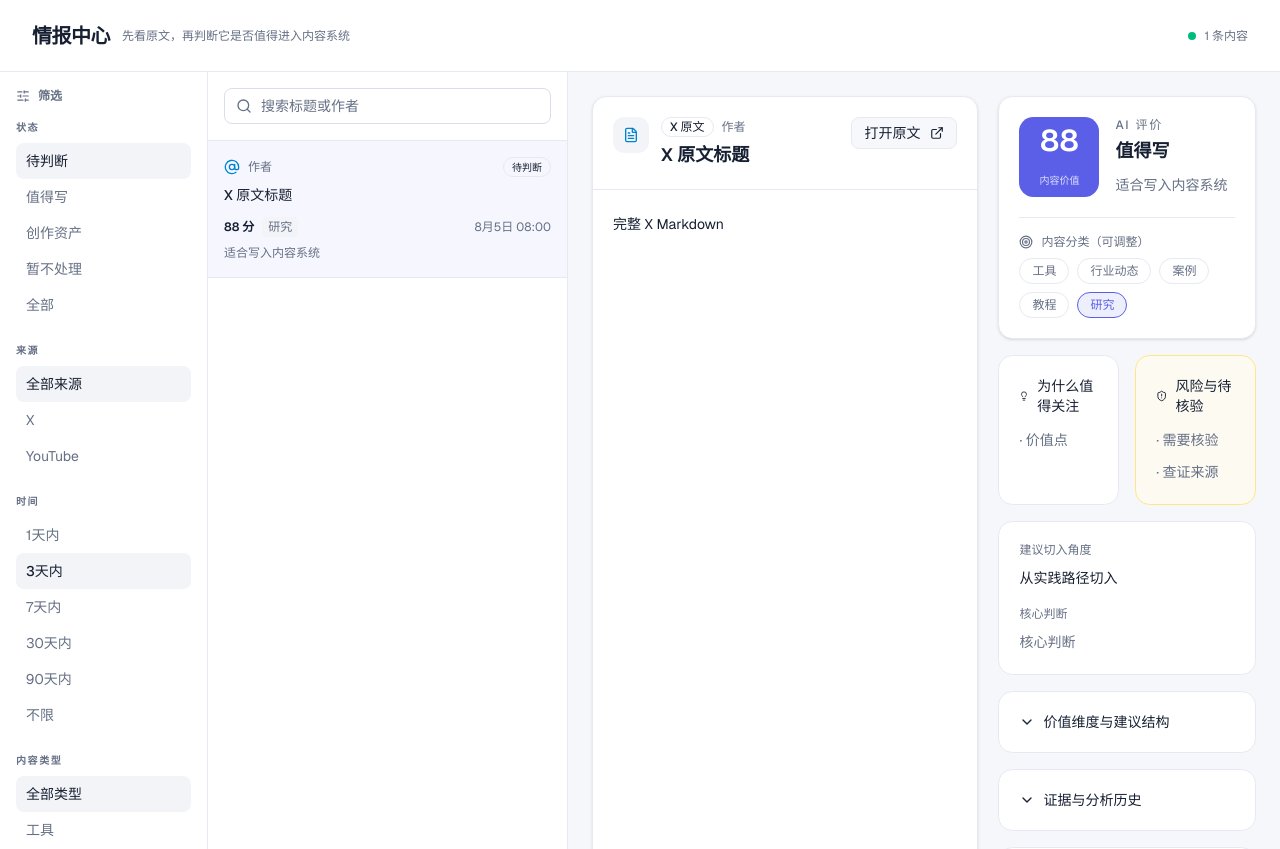
Test case: Intelligence Station workbench › uses 1 to open writing targets and 2 to open the asset dialog
Check: the text "AI 评价" is shown, box [1115,117,1163,133]
Step 1. Type keys "1"
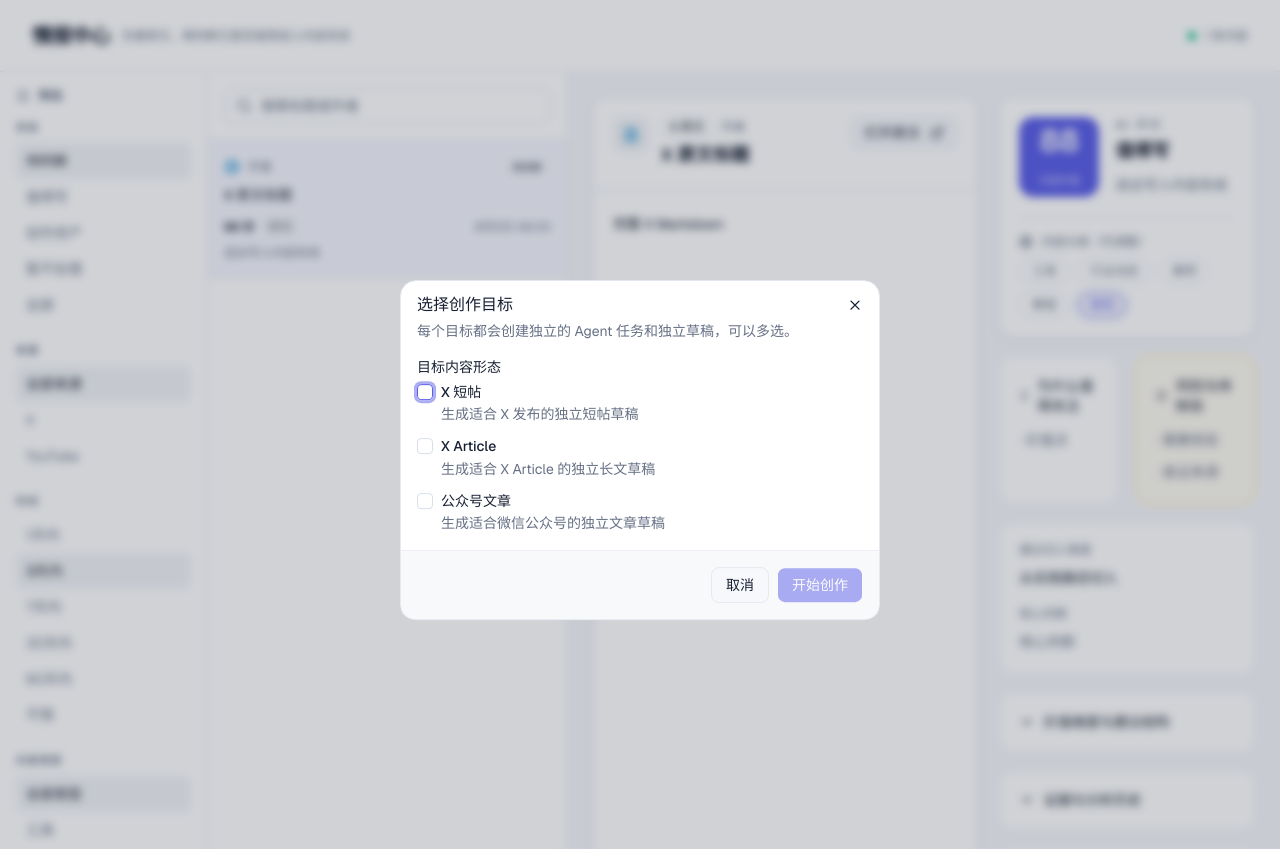
Check: the dialog shows "选择创作目标", box [417,294,513,315]
Step 2. Click the button "取消" → x=740, y=585, box [711,567,769,603]
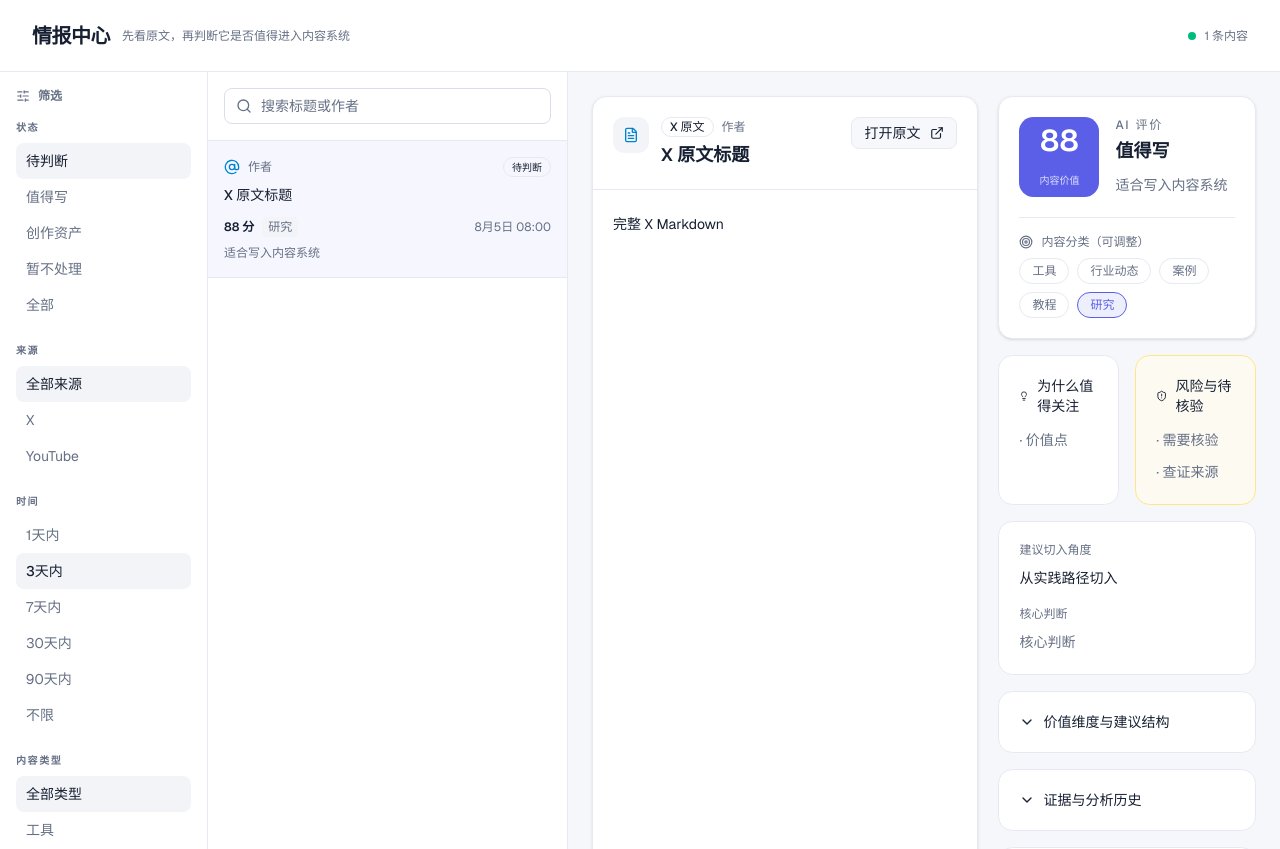
Step 3. Type keys "2"
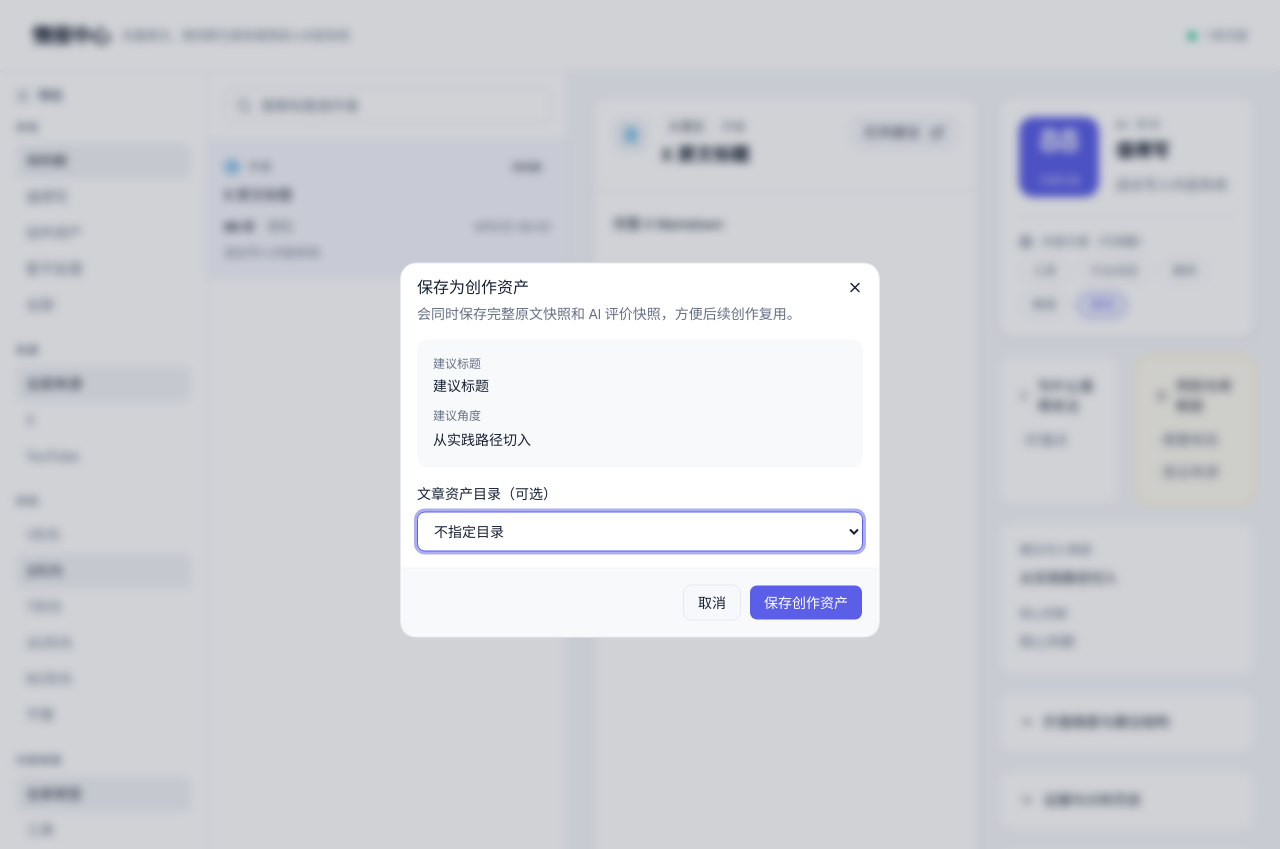
Check: the dialog shows "保存为创作资产", box [417,276,529,298]
